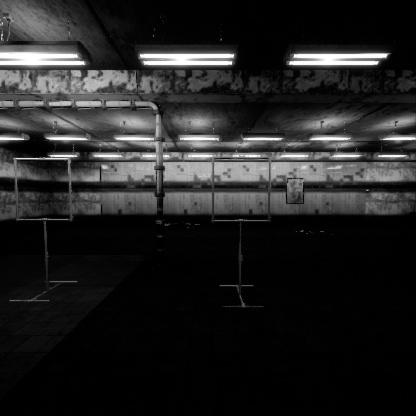gate: (212, 193, 276, 259), (14, 194, 77, 257)
